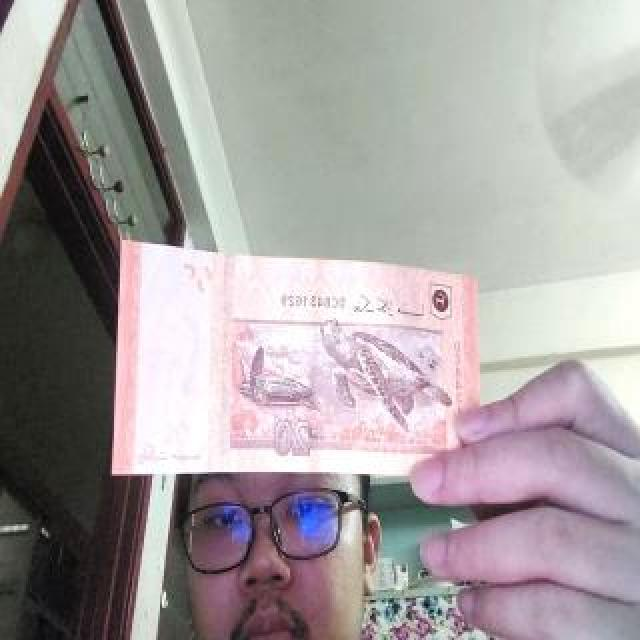20 Ringgit: (108, 240, 485, 491)
